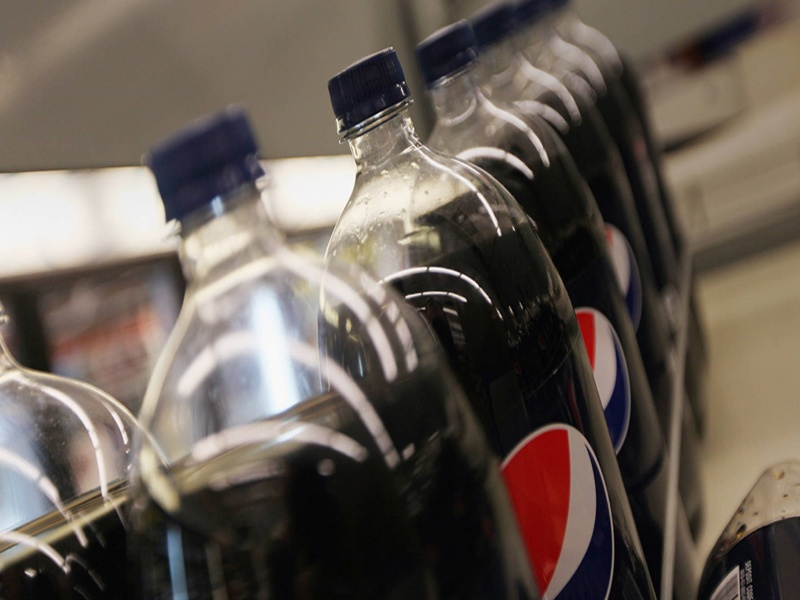Plastic bottle: (67, 113, 572, 597), (269, 42, 673, 600), (401, 27, 706, 526)
